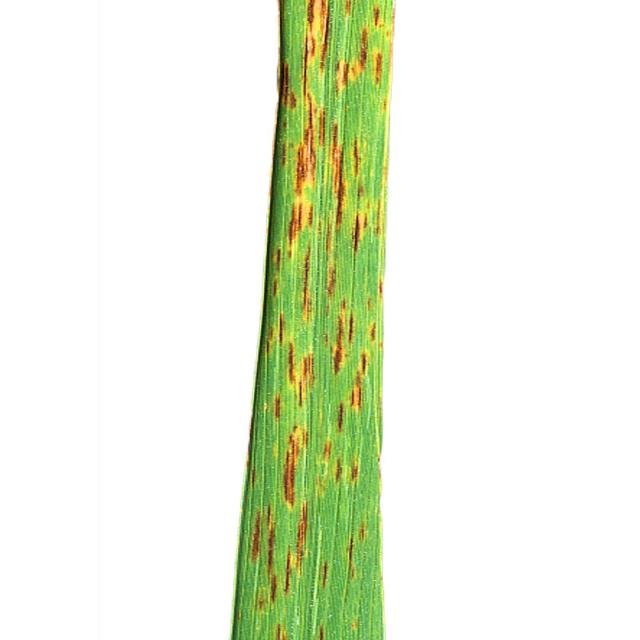Narrow brown: (218, 0, 484, 640)
